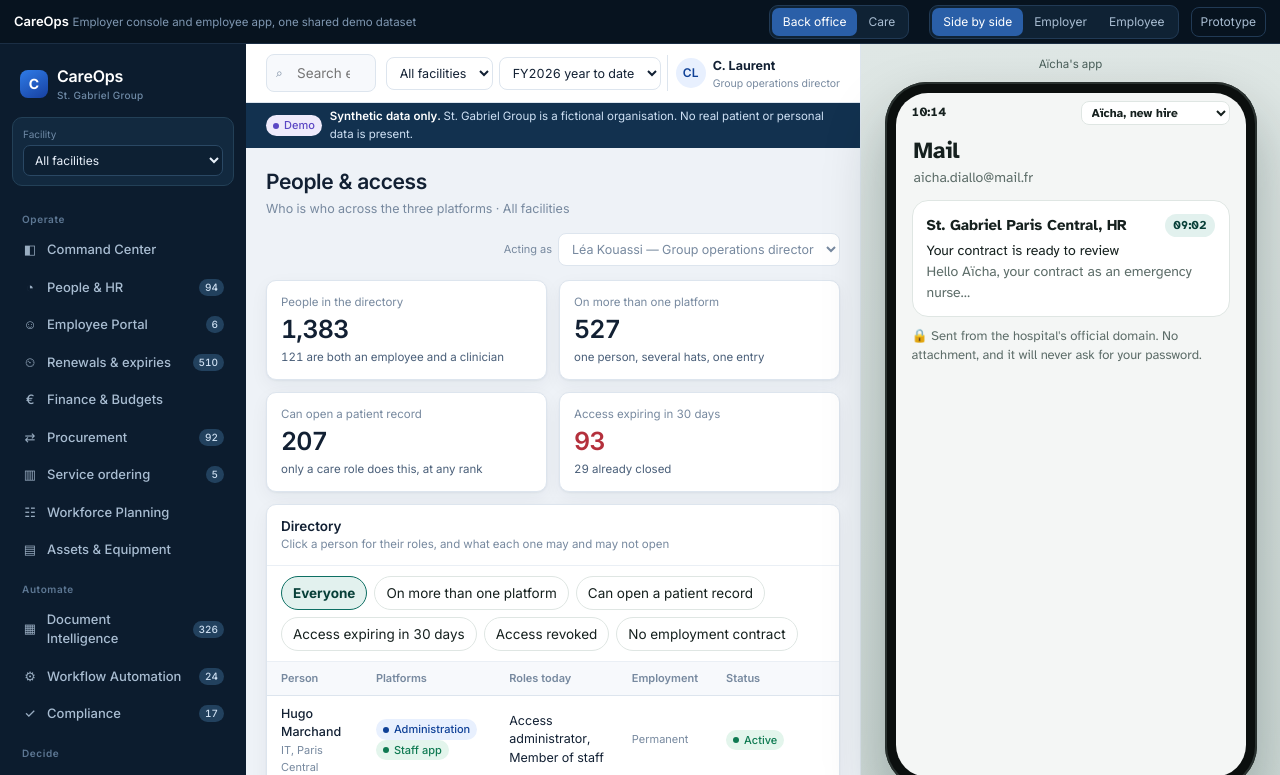
Scenario: people and access › can filter to exactly the people who may open a patient record
Expected: the heading "Directory" is shown, [281, 518, 342, 534]
Step 1. Click the button "Can open a patient record" → click(670, 593), box [576, 576, 765, 610]
(page scrolled)
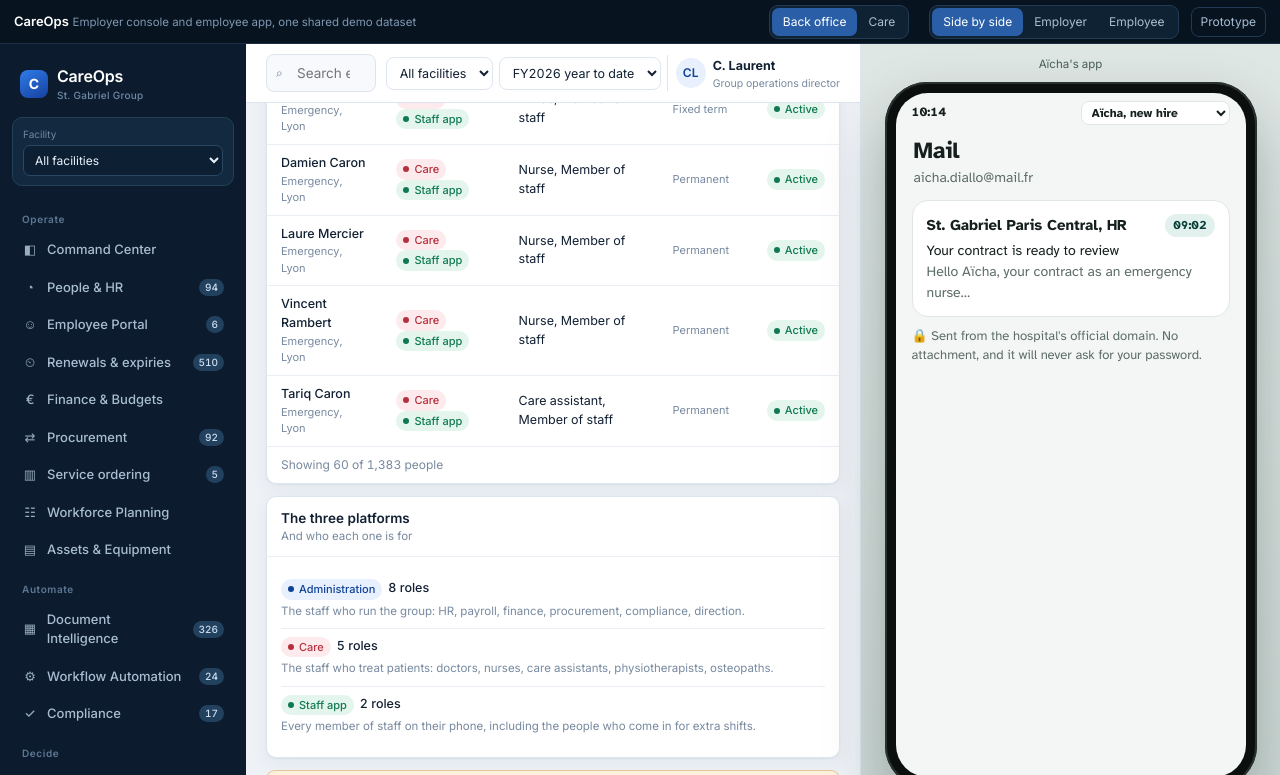
Result: the text "Care" next to "Laure Mercier" is shown at [414, 233, 439, 247]
Result: the text "Care" below "Vincent Rambert" is shown at [414, 313, 439, 327]
Result: the text "Care" next to "Tariq Caron" is shown at [414, 393, 439, 407]
